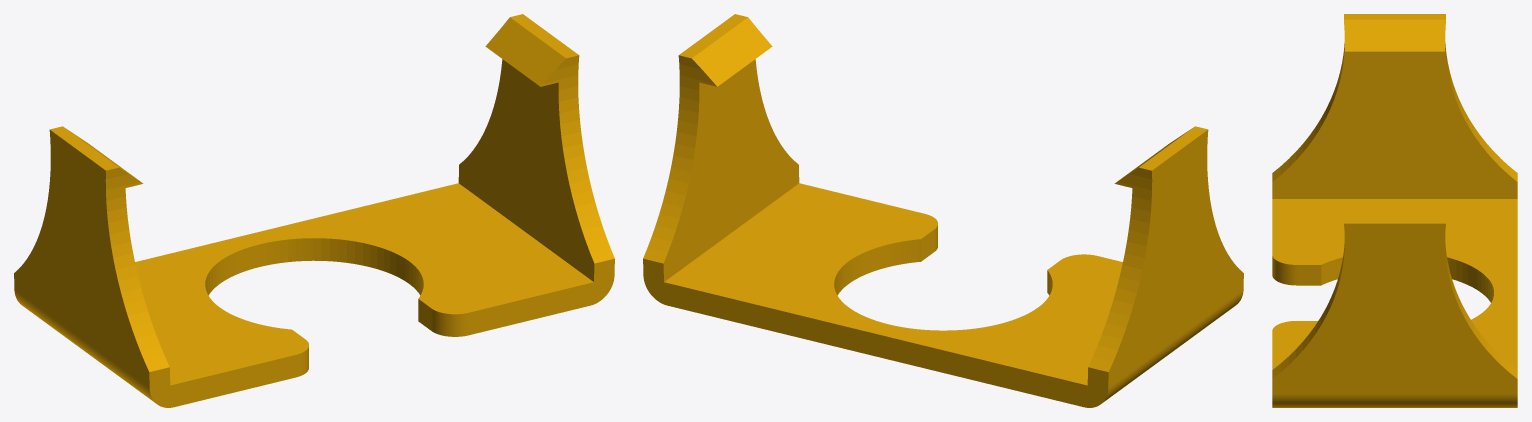
The model's file is AngelCutter-V3-23.glb.
3 views of the same model, side by side, from view 1: azimuth 30°, elevation 25°; view 2: azimuth 150°, elevation 25°; view 3: azimuth 270°, elevation 25° (orthographic). The views are drawn at different scales.
Size of the model in its own units: 60.3 by 26.13 by 29.85.
